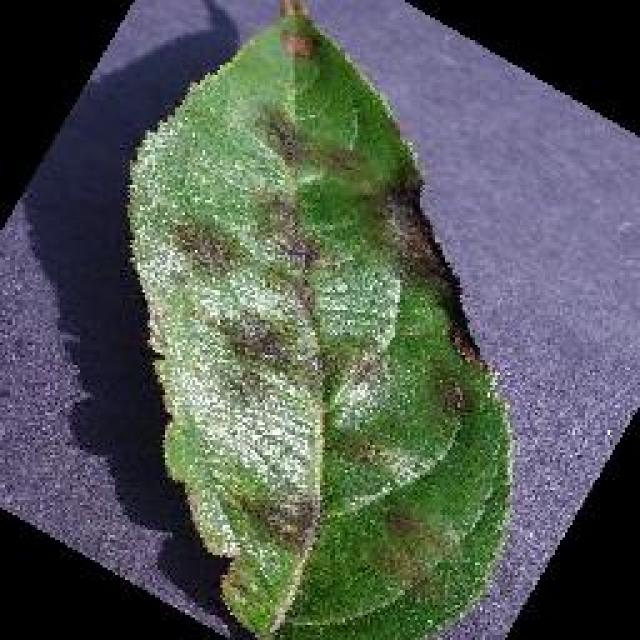apple scab disease: (122, 0, 518, 638)
